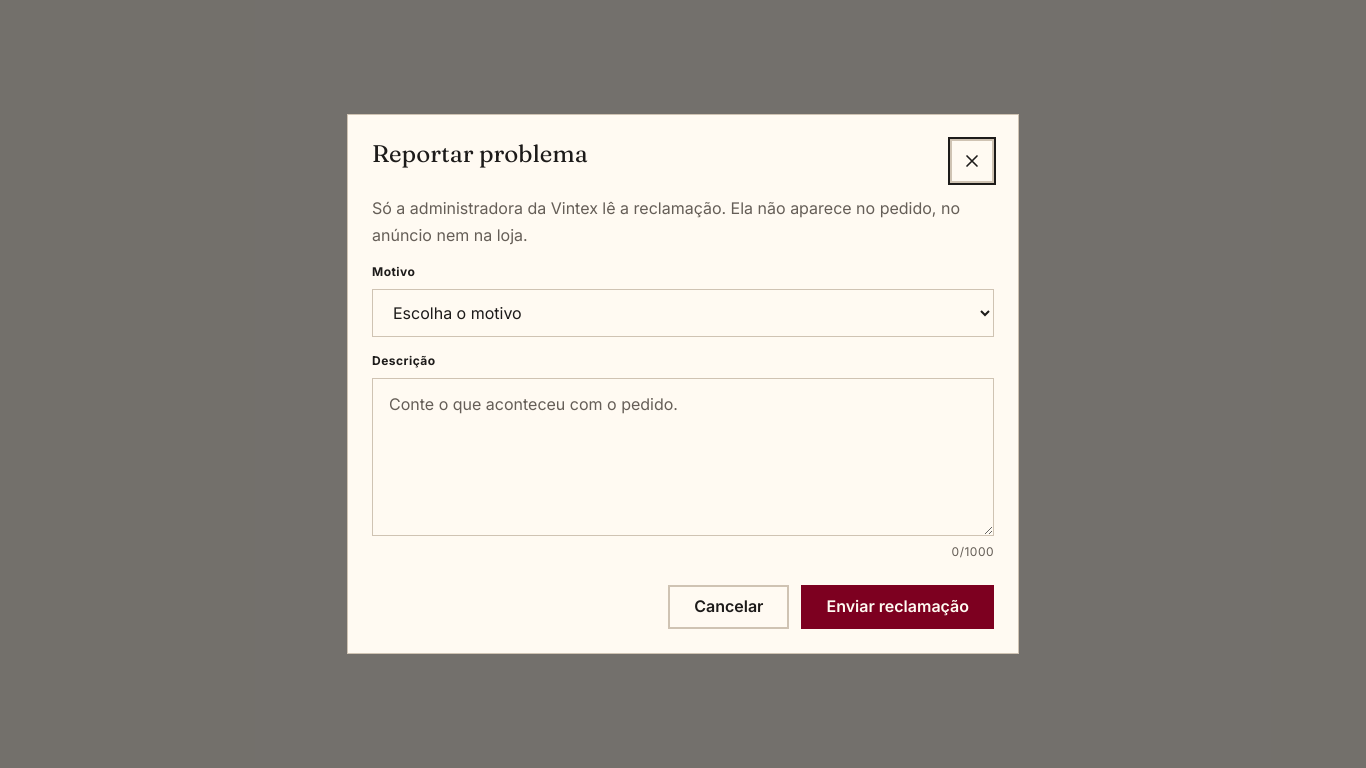
Test: <ReportProblemDialog /> › envia motivo e descrição e mostra só a confirmação
Step 1. Select "Chegou danificado" in the dropdown labelled "Motivo" → (683, 313), box [372, 289, 994, 337]
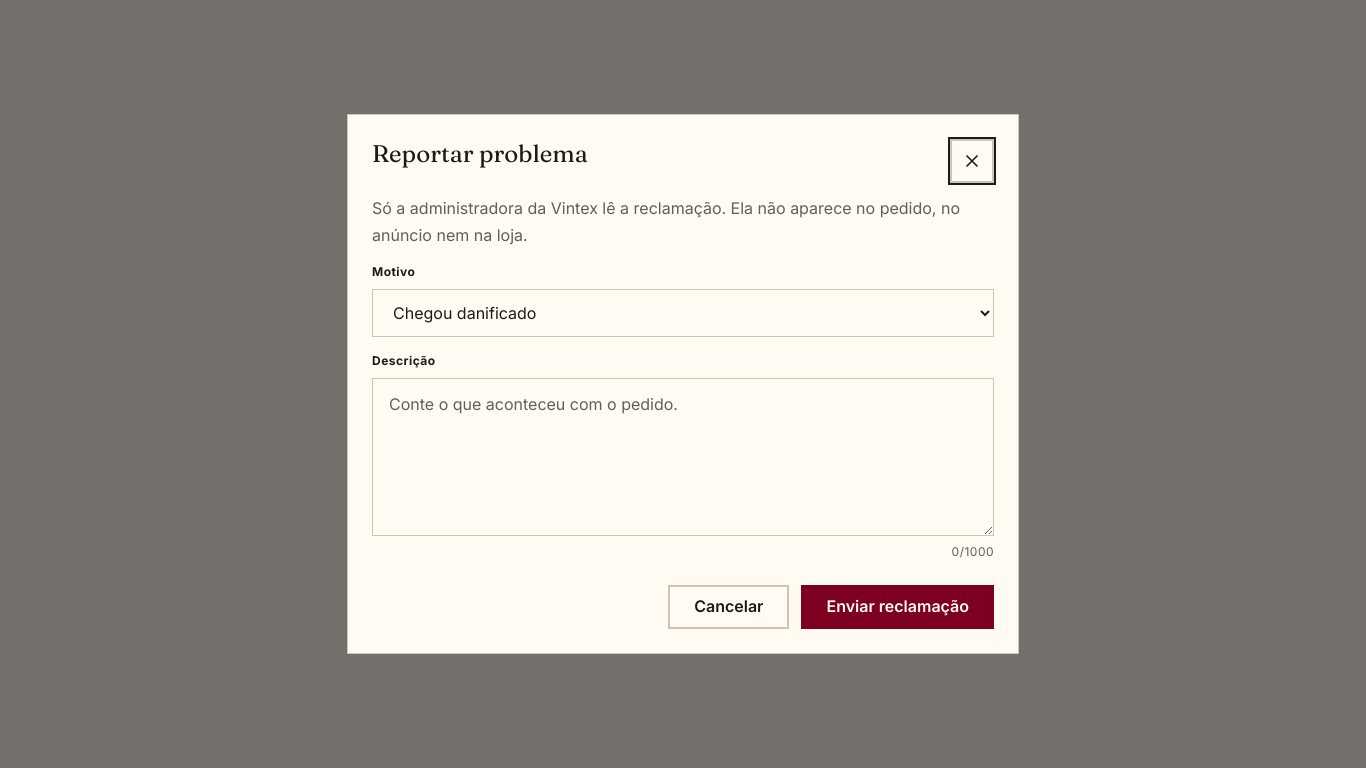
Step 2. Type "A manga veio rasgada." into the text box labelled "Descrição" → (683, 457), box [372, 378, 994, 536]
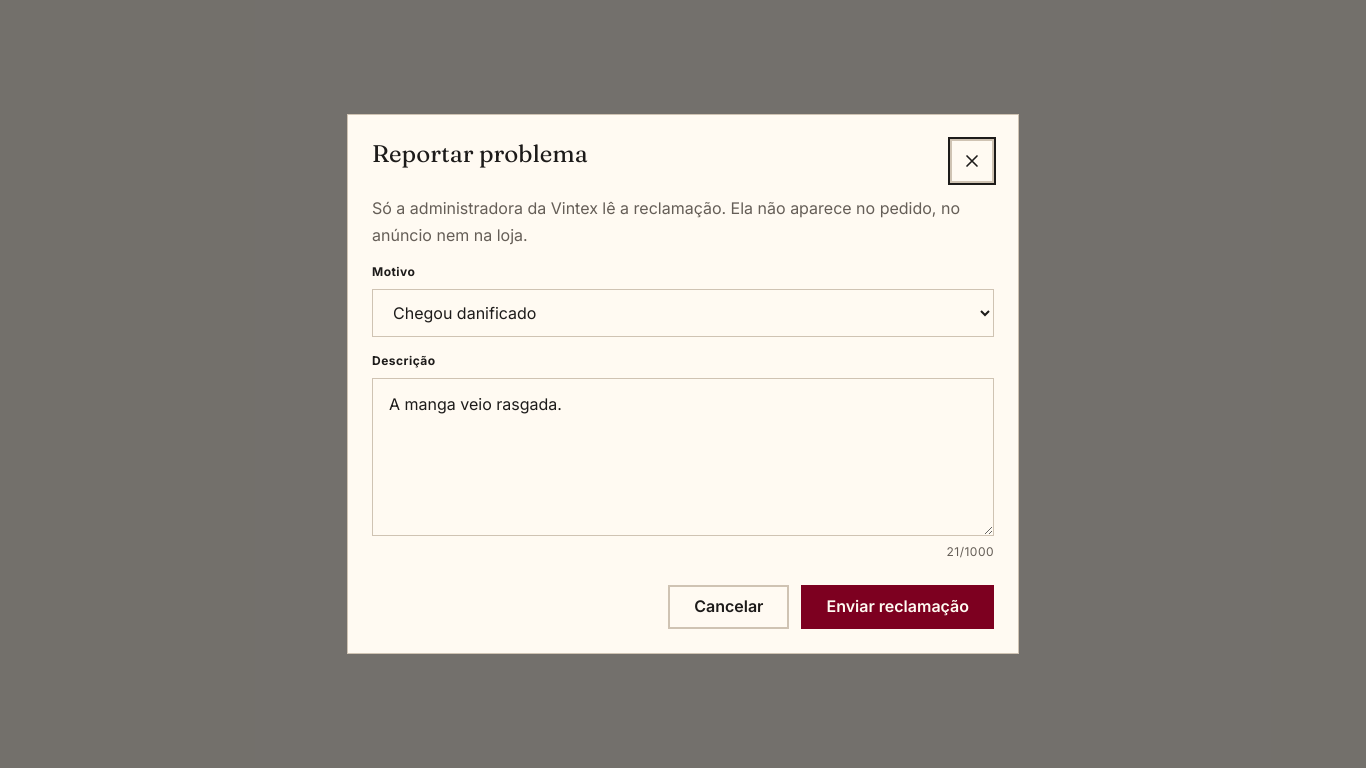
Step 3. Click the button "Enviar reclamação" → (898, 607), box [802, 585, 994, 629]
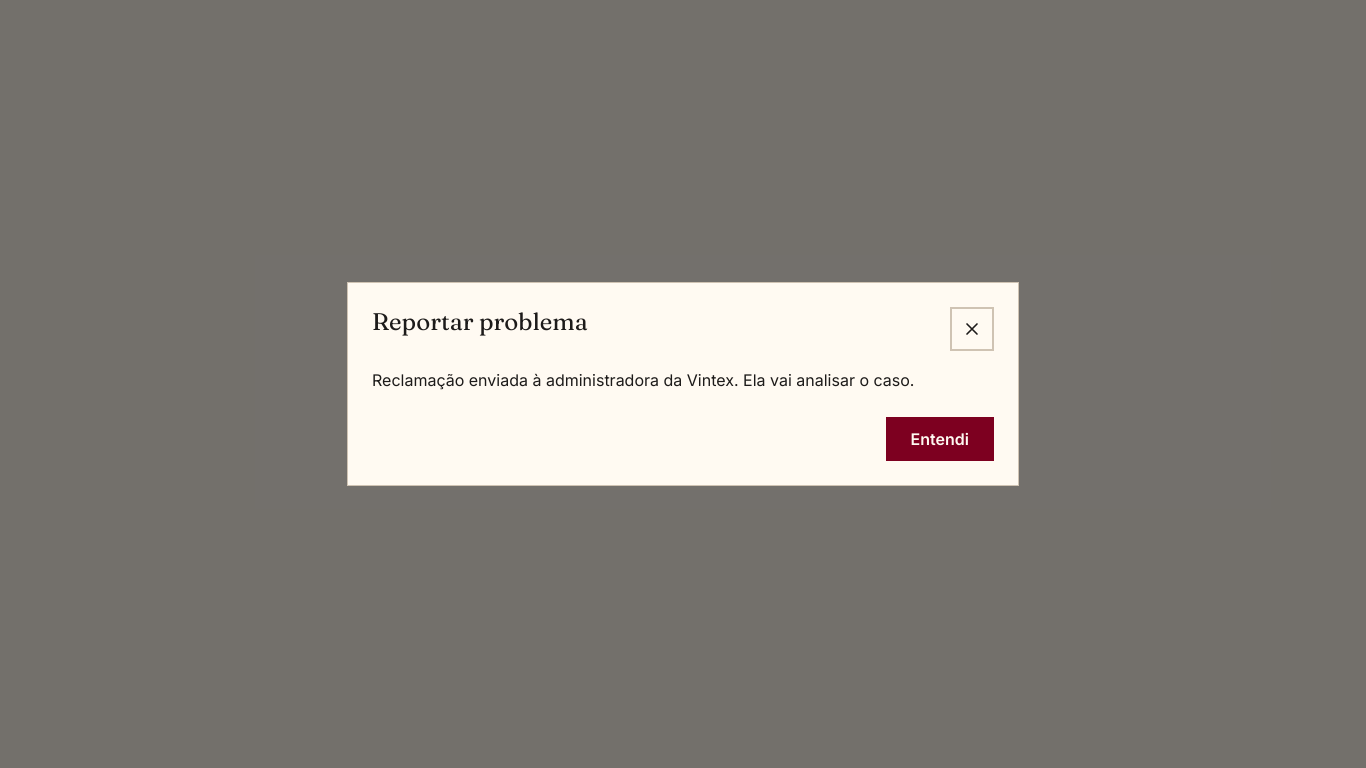
Check: the text "A manga veio rasgada." is not shown
Check: the message shows "enviada à administradora", box [372, 370, 914, 390]
